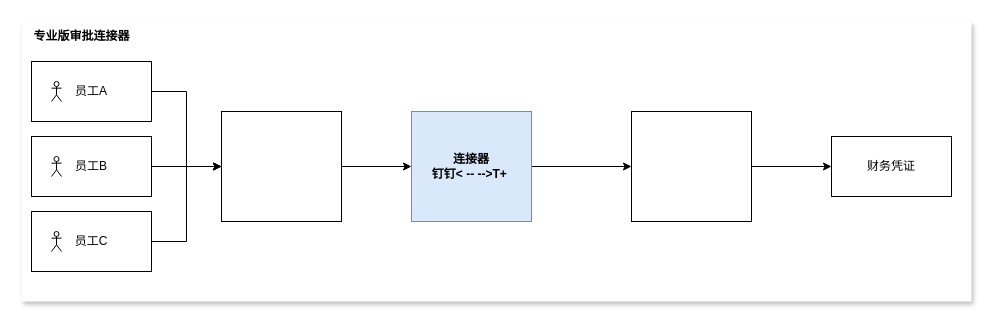
This 994x325 diagram has some shape labels left out. Here are the shapes that lost their labels. From the top down, the centre of each, then its label:
At pixel 281 166: "钉钉OA 报销单申请".
At pixel 691 166: "畅捷通T+ 费用单".
